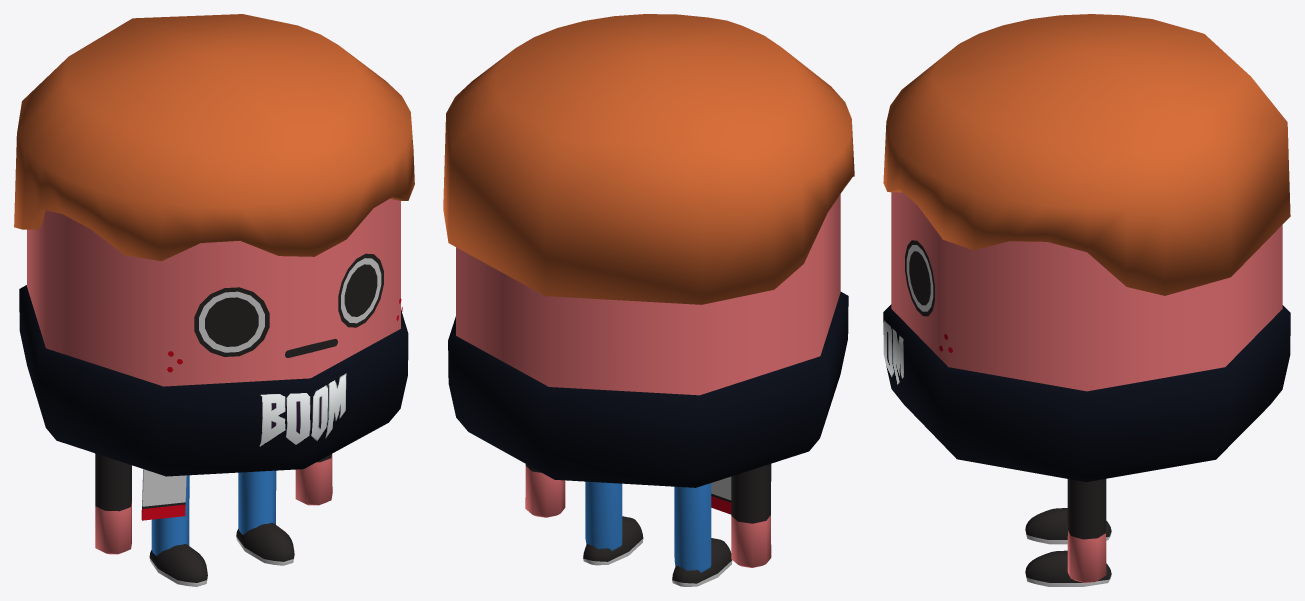
The model's file is Dev.fbx.
The picture shows the model from 3 angles, left to right: view 1: azimuth 30°, elevation 25°; view 2: azimuth 150°, elevation 25°; view 3: azimuth 270°, elevation 25°; orthographic projection. The views are drawn at different scales.
Parts seen in each view (by area): view 1: Dev; view 2: Dev; view 3: Dev.
Boxes of the visible parts, x1,y1,x2,y2 form: Dev: [14, 14, 414, 586]; Dev: [443, 14, 854, 586]; Dev: [883, 14, 1290, 586].
Size of the model in its own units: 184 by 250 by 184.
